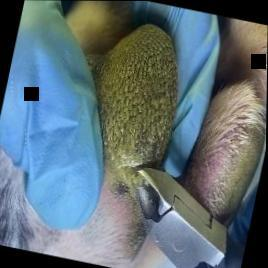keratosis: (73, 13, 196, 173)
